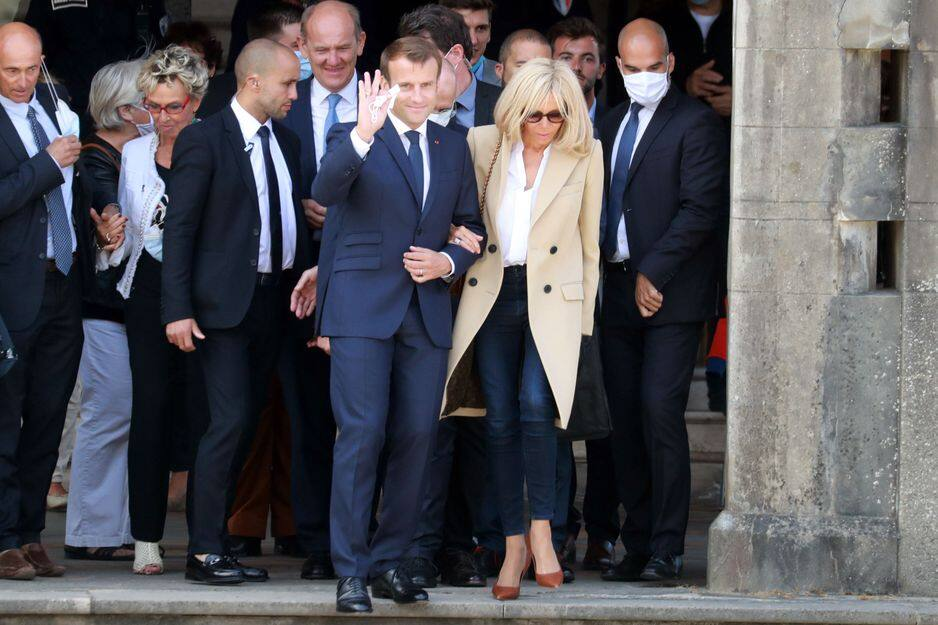with_mask: (618, 37, 677, 108)
without_mask: (308, 30, 358, 87), (388, 66, 437, 120), (2, 51, 44, 106), (266, 58, 301, 122), (144, 91, 189, 138), (523, 95, 565, 145)
